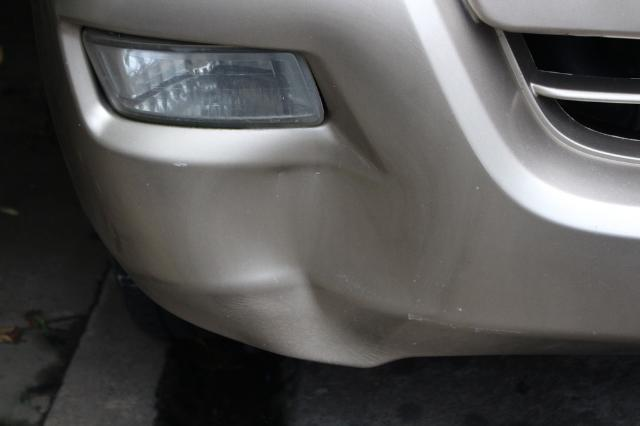dent: (195, 139, 424, 367)
